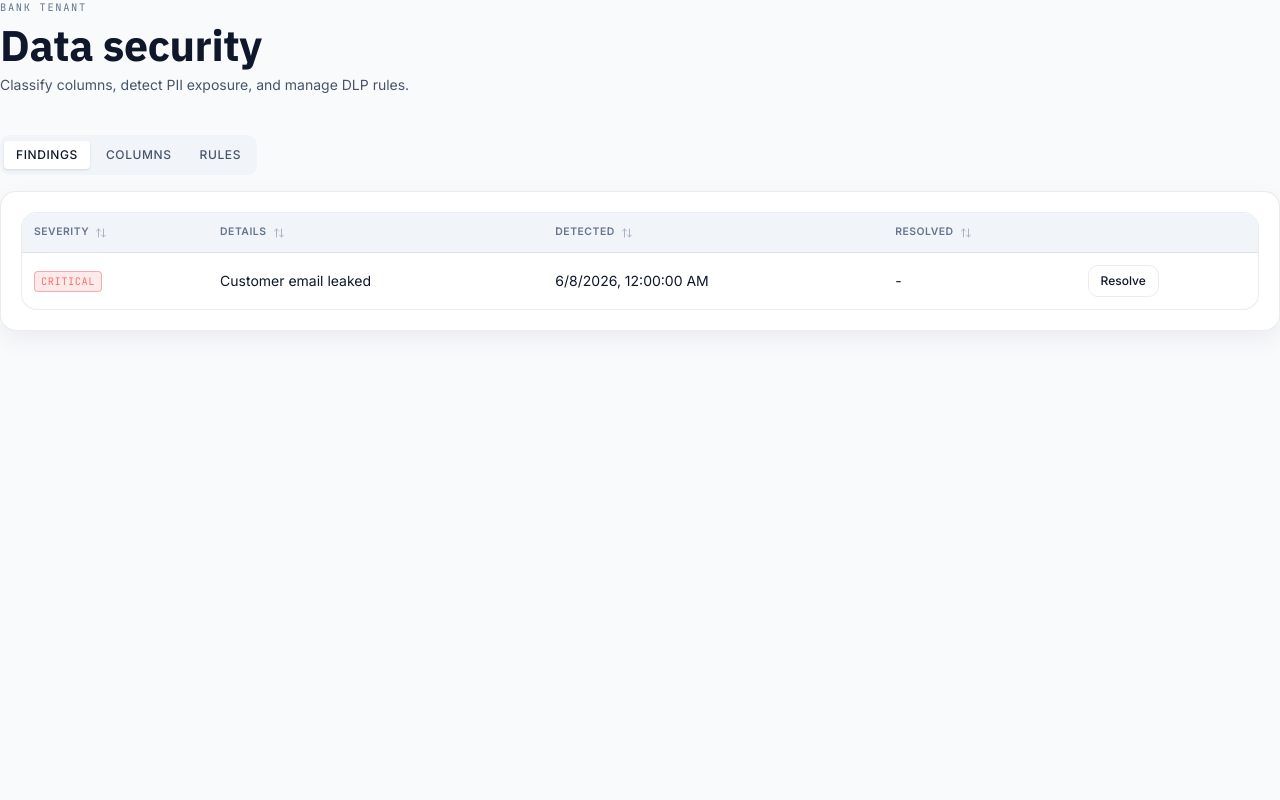
DataSecurity › keeps failed finding resolves visible in the confirmation modal
Click the button with aria-label "resolve pii finding customer email leaked" at (1123, 281), box 1088,265 -> 1159,297
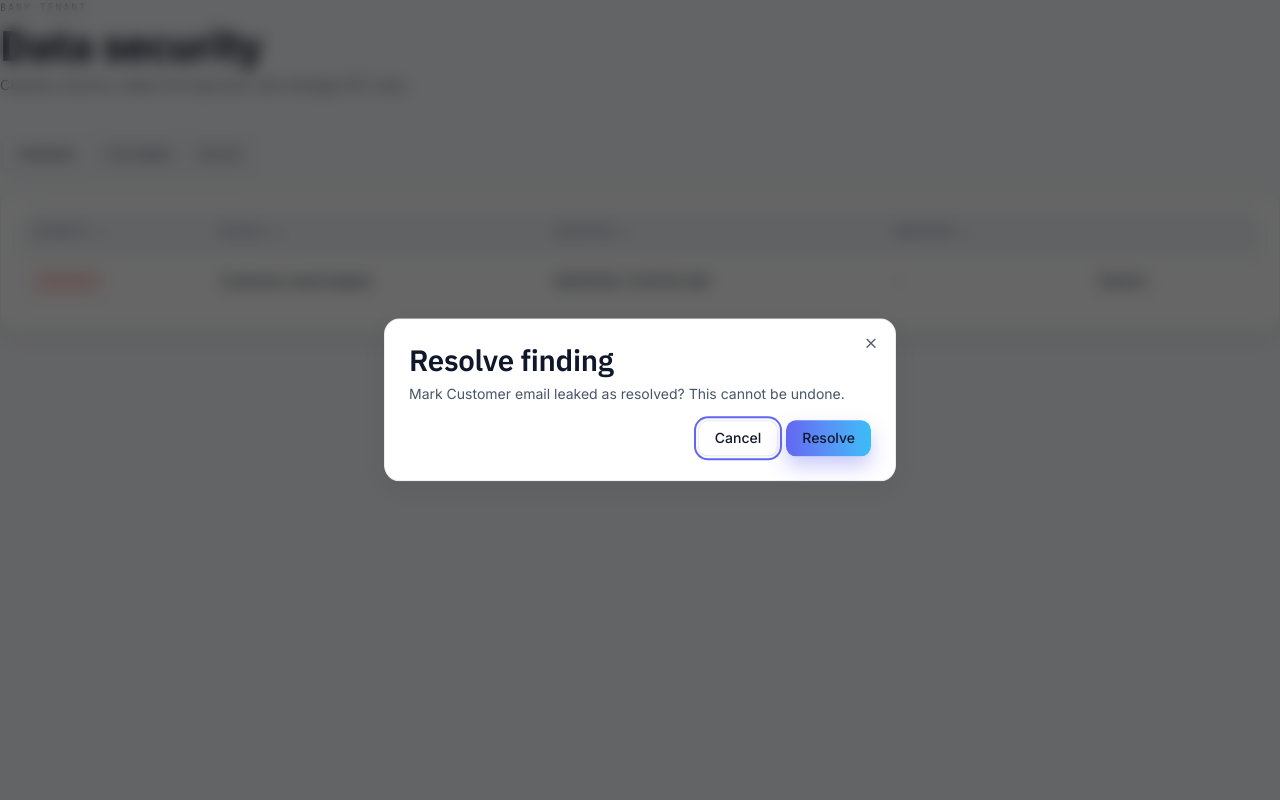
Check: the dialog "Resolve finding" is shown, box 384,318 -> 896,482
Click the button "Resolve" at (829, 439), box 786,421 -> 871,457
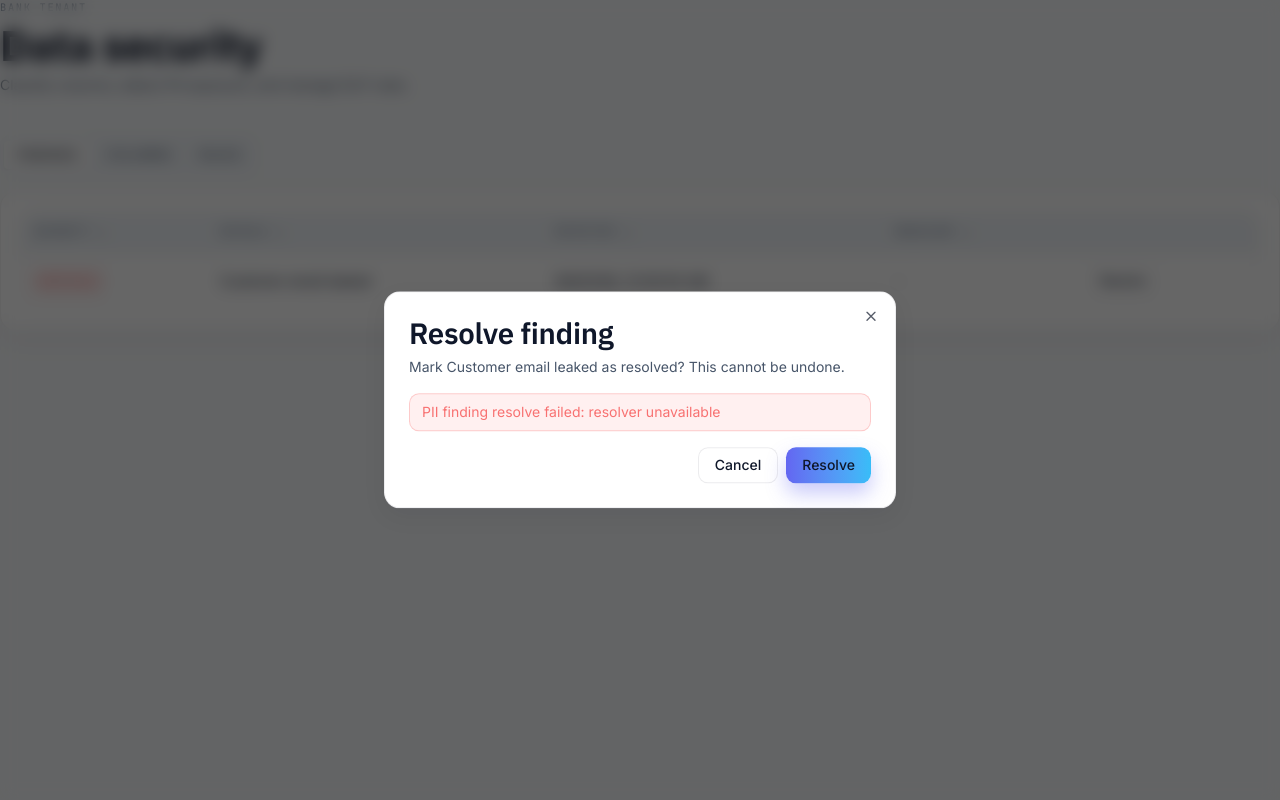
Check: the dialog "Resolve finding" is shown, box 384,291 -> 896,509
Check: the message reads "PII finding resolve failed: resolver unavailable", box 422,404 -> 720,421
